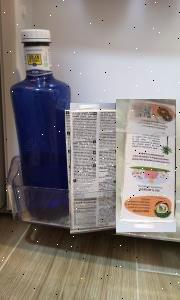Leche: (116, 99, 176, 232), (70, 103, 116, 234)
